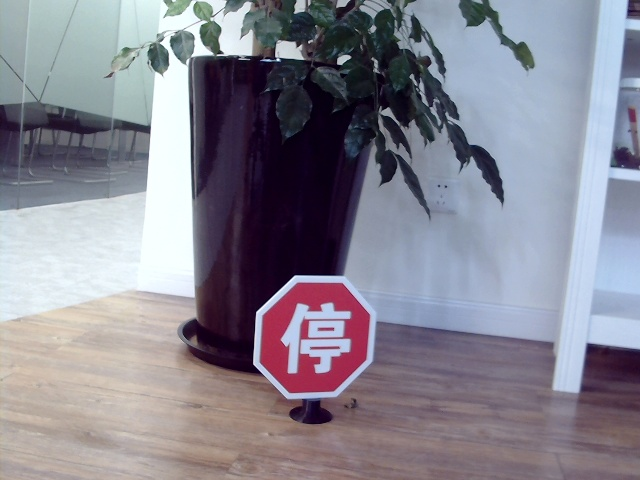stop: (281, 304, 350, 375)
